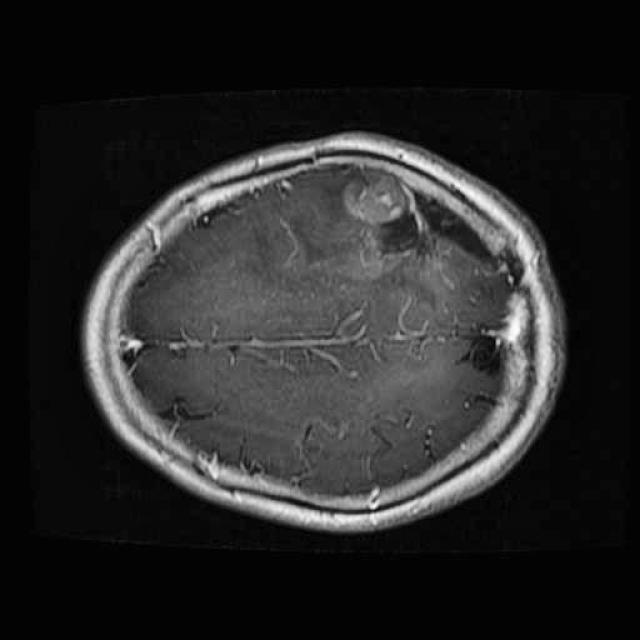Non-Tumor: (332, 148, 500, 283)
